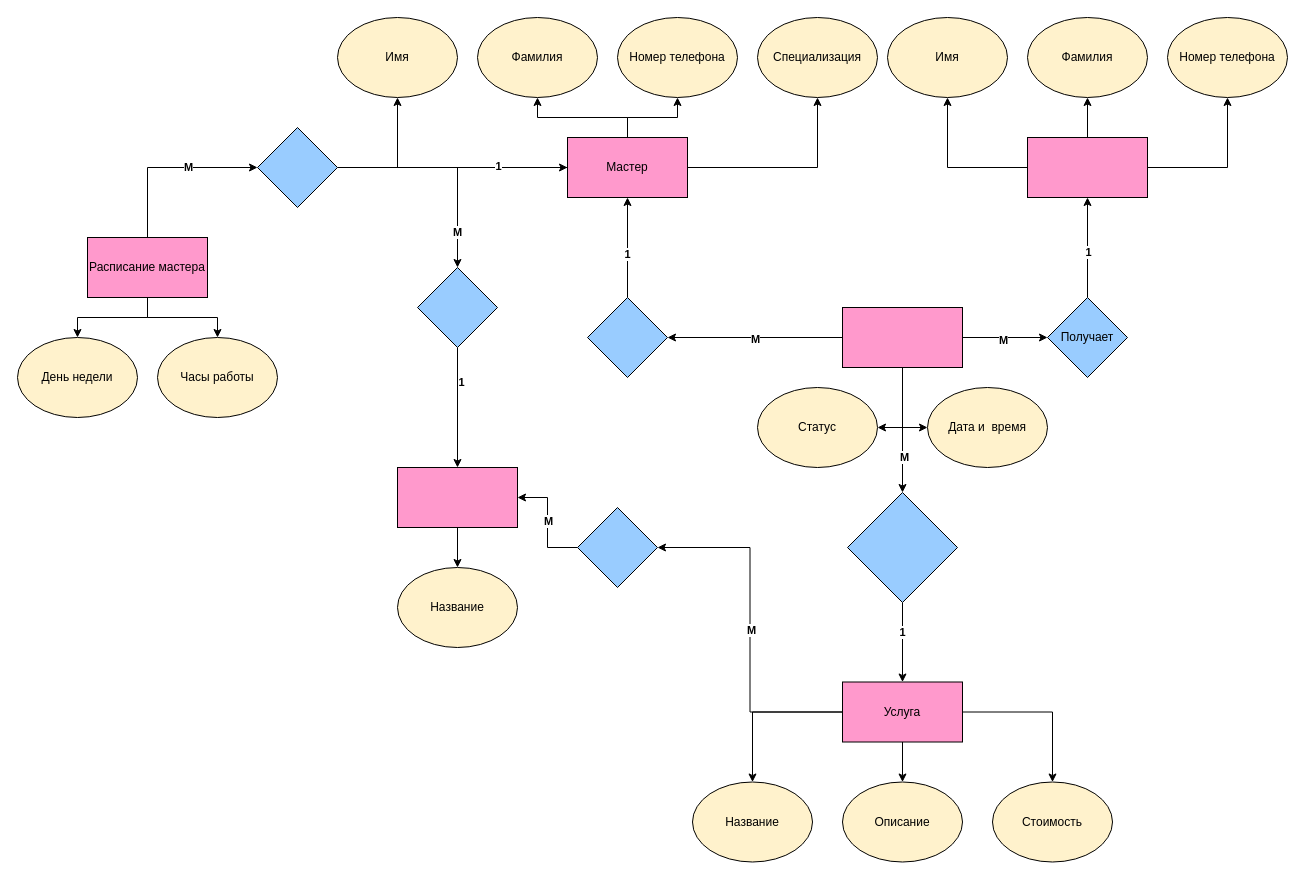
Some shapes in this 1305 by 880 pixel diagram are drawn without their labels. Each missing label, with the centre of its shape:
"Выполняет" belongs at point 627,337.
"Зависит от" belongs at point 617,547.
"Запись" belongs at point 902,337.
"Категория мастера" belongs at point 457,497.
"Клиент" belongs at point 1087,167.
"Относится к" belongs at point 457,307.
"Предоставляет" belongs at point 902,547.
"Работает по" belongs at point 297,167.
